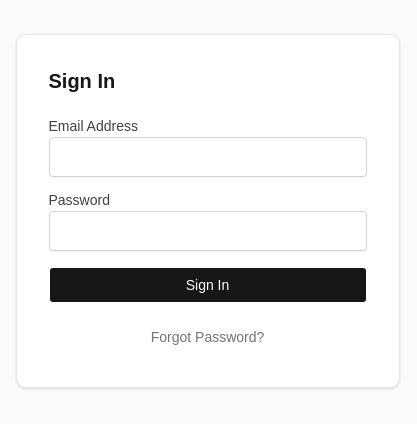
Login › displays invalid credentials error on 401 ApiError
This screenshot has width=417, height=424.
Type "test@example.com" into the field labelled "Email Address" at (208, 157), box [48,137,366,177]
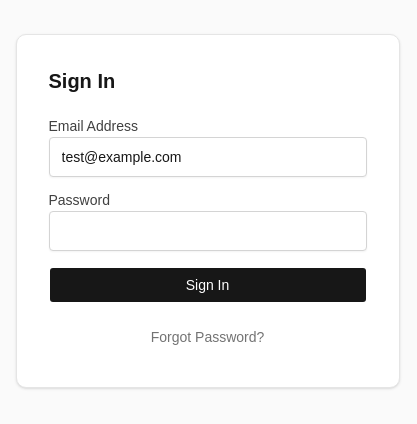
Type "wrongpass" into the password field labelled "Password" at (208, 231), box [48,211,366,251]
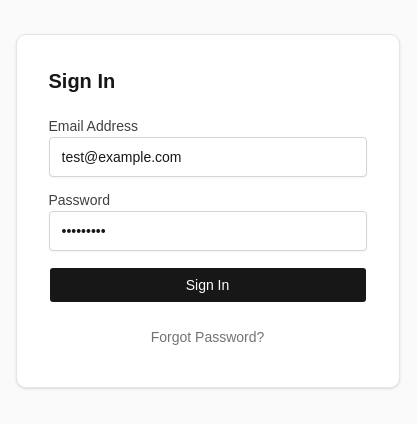
Submit the form from the button "Sign In", box [48,267,366,303]
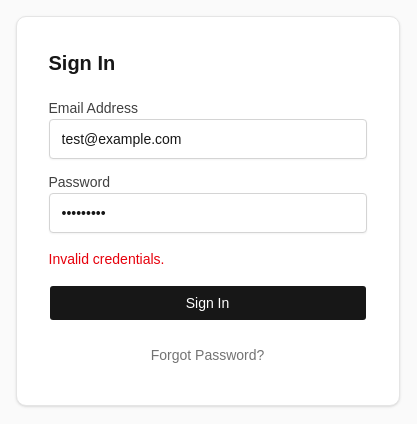
Check: the message reads "Invalid credentials.", box [48,251,164,267]
